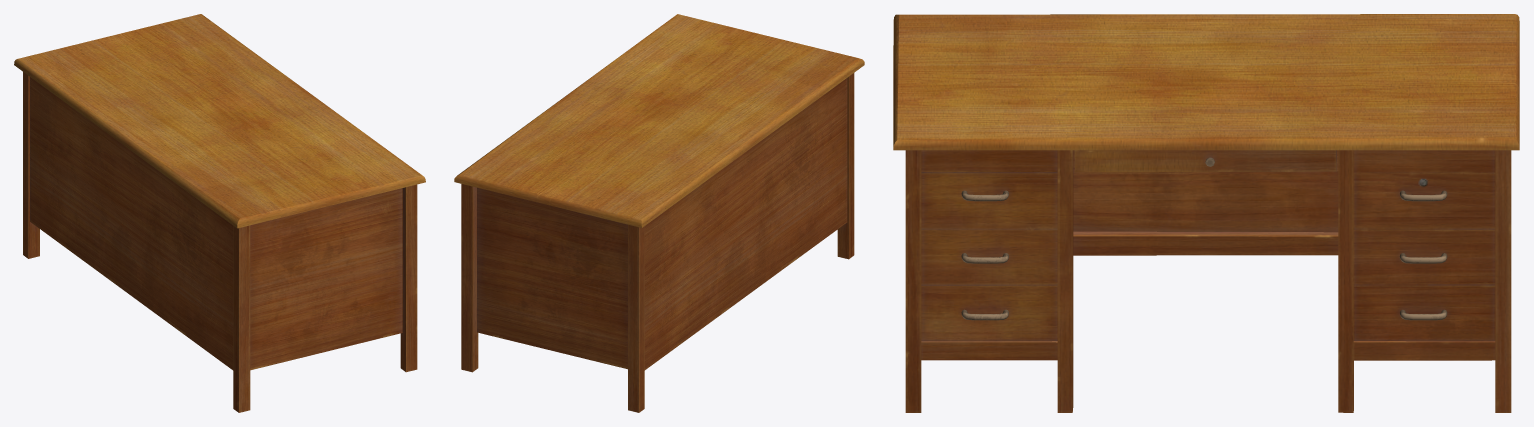
File: SM_Desk_04a.fbx
3 renders of one model, left to right at view 1: azimuth 30°, elevation 25°; view 2: azimuth 150°, elevation 25°; view 3: azimuth 270°, elevation 25°, orthographic. The views are drawn at different scales.
Parts seen in each view (by area): view 1: SM_Desk_04a_LOD0; view 2: SM_Desk_04a_LOD0; view 3: SM_Desk_04a_LOD0.
Part boxes in pixels (x1,y1,x2,y2): SM_Desk_04a_LOD0: (14,14,425,412); SM_Desk_04a_LOD0: (454,14,864,412); SM_Desk_04a_LOD0: (893,14,1519,412).
Size of the model in its own units: 78.96 by 161 by 77.88.
Materials: 1 (1 with a texture image).
